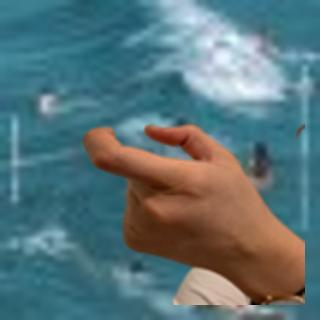HATE: (74, 118, 274, 273)
